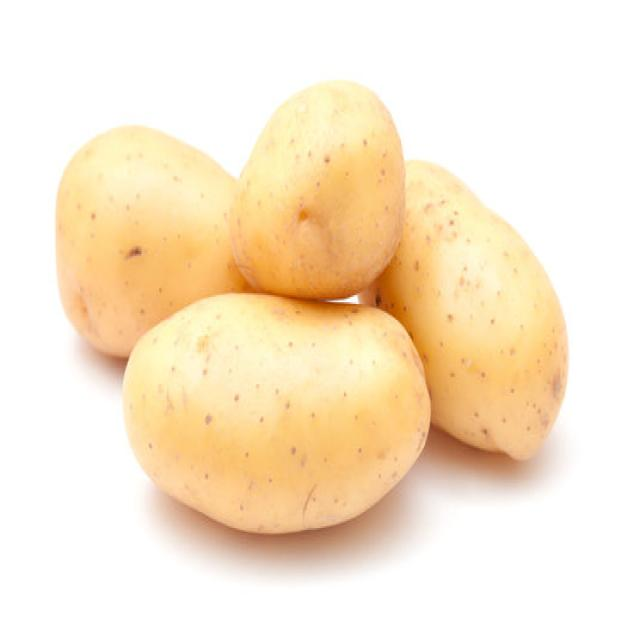Potato: (121, 290, 431, 535), (360, 157, 570, 460), (54, 121, 247, 359), (245, 85, 392, 285)
